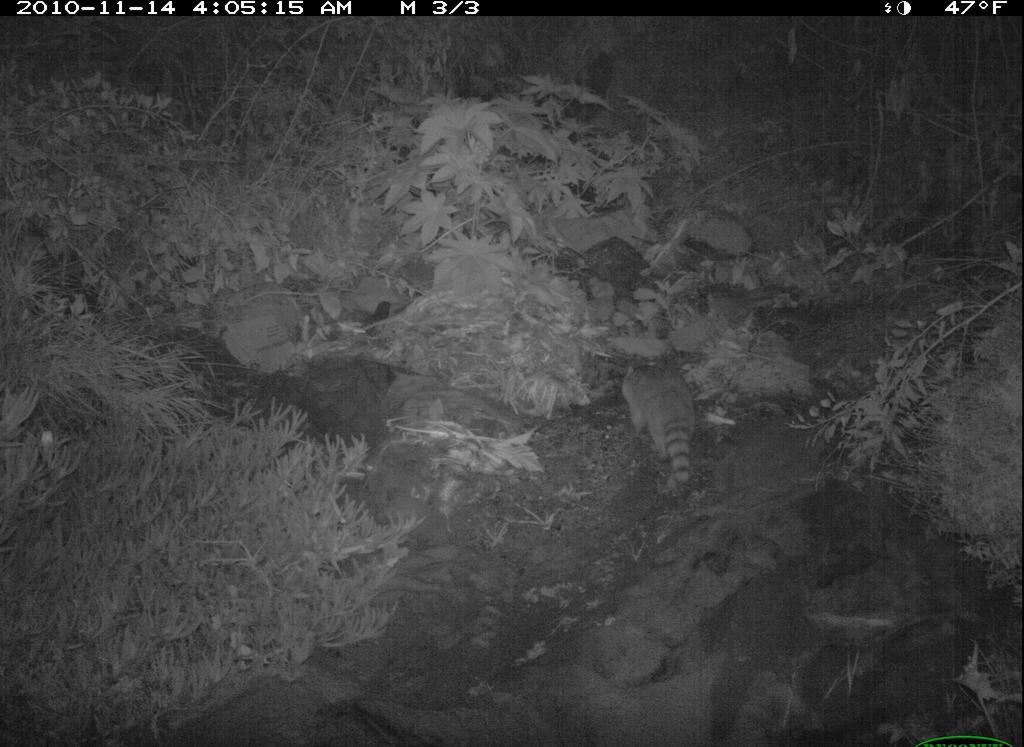raccoon: (610, 353, 708, 496)
